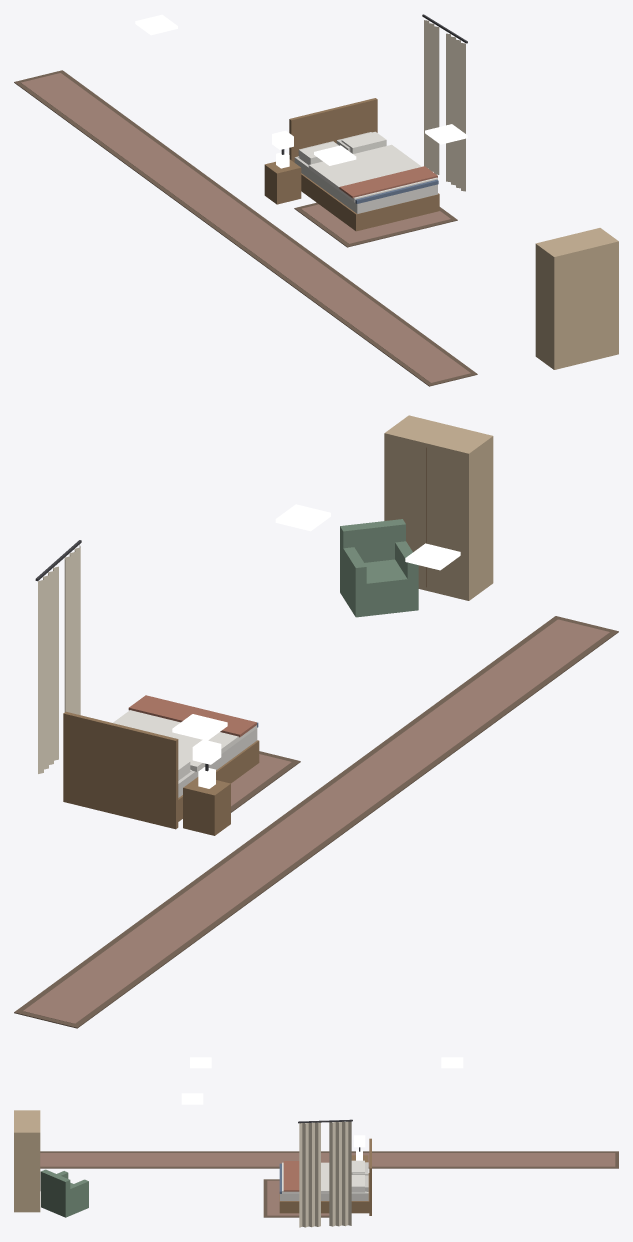
File: fine-s3.glb
3 renders of one model, top to bottom at view 1: azimuth 30°, elevation 25°; view 2: azimuth 150°, elevation 25°; view 3: azimuth 270°, elevation 25°, orthographic. The views are drawn at different scales.
Visible parts, largest first — view 1: soft-s3, dresser.002, bed-frame.002, nightstand.002, ceiling-lamp.009, ceiling-lamp.010, ceiling-lamp.008; view 2: soft-s3, dresser.002, bed-frame.002, lounge-chair.002, nightstand.002, ceiling-lamp.009, ceiling-lamp.010, ceiling-lamp.008; view 3: soft-s3, dresser.002, lounge-chair.002, bed-frame.002, ceiling-lamp.010, ceiling-lamp.008, ceiling-lamp.009.
Part boxes in pixels (x1,y1,x2,y2): soft-s3: [14, 14, 477, 386]; dresser.002: [535, 228, 618, 369]; bed-frame.002: [289, 98, 439, 231]; nightstand.002: [264, 151, 301, 204]; ceiling-lamp.009: [314, 145, 356, 165]; ceiling-lamp.010: [425, 124, 467, 144]; ceiling-lamp.008: [135, 14, 177, 35]; soft-s3: [14, 540, 618, 1028]; dresser.002: [384, 415, 493, 600]; bed-frame.002: [63, 711, 259, 829]; lounge-chair.002: [340, 519, 418, 617]; nightstand.002: [183, 767, 230, 835]; ceiling-lamp.009: [405, 543, 460, 570]; ceiling-lamp.010: [275, 504, 330, 531]; ceiling-lamp.008: [172, 714, 227, 740]; soft-s3: [40, 1119, 618, 1227]; dresser.002: [14, 1110, 40, 1212]; lounge-chair.002: [40, 1169, 88, 1217]; bed-frame.002: [279, 1138, 371, 1215]; ceiling-lamp.010: [181, 1093, 203, 1104]; ceiling-lamp.008: [441, 1057, 463, 1068]; ceiling-lamp.009: [190, 1057, 211, 1068].
Size of the model in its own units: 4.19 by 2.71 by 13.79.
